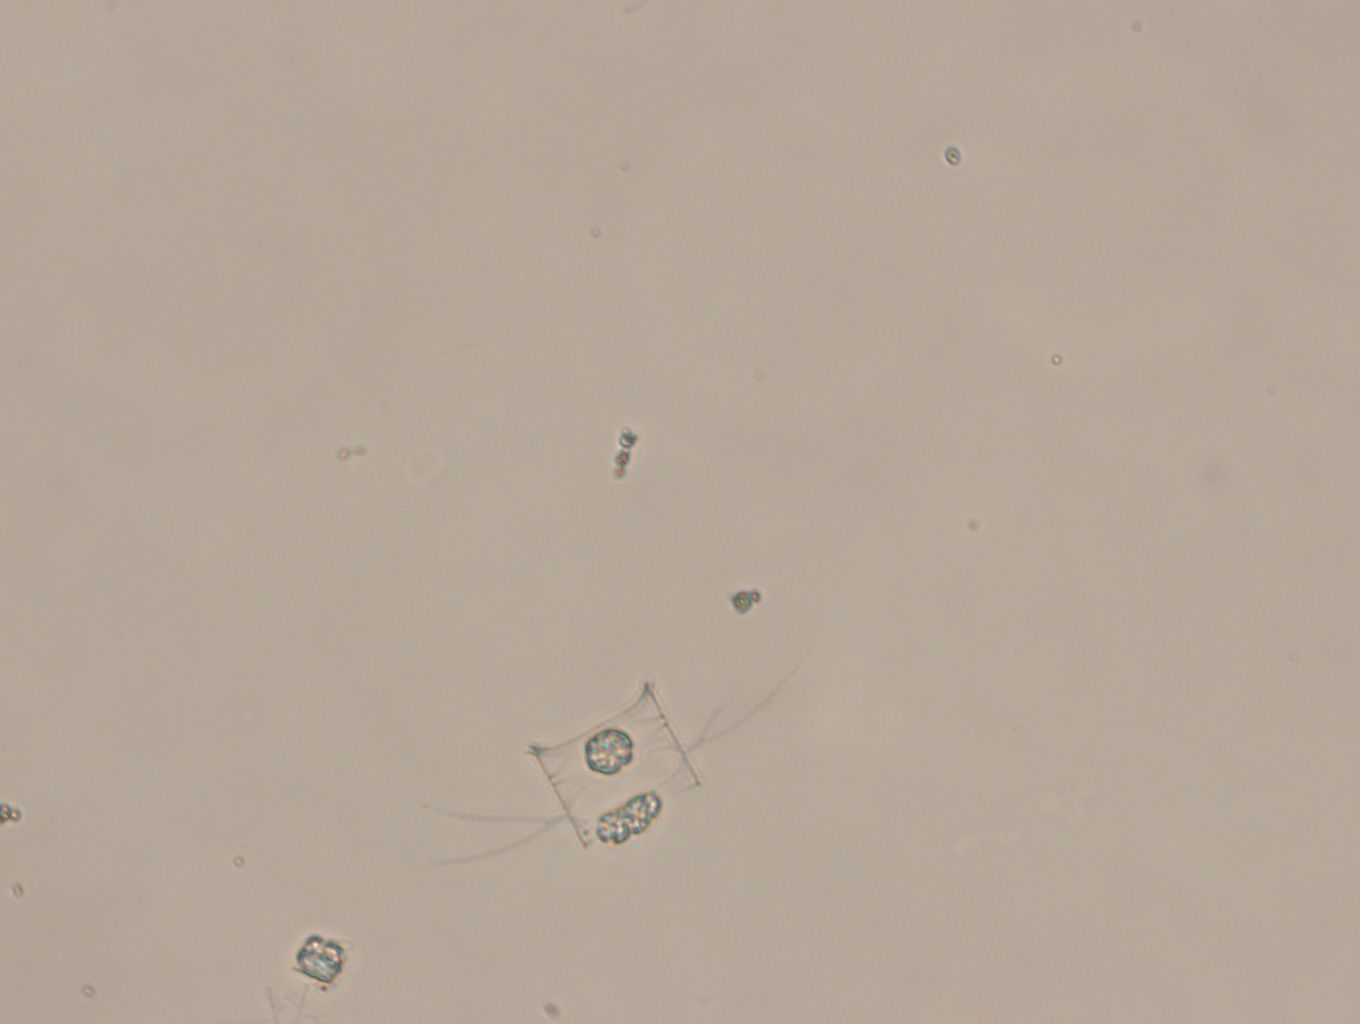chaetoceros: (409, 671, 834, 874)
